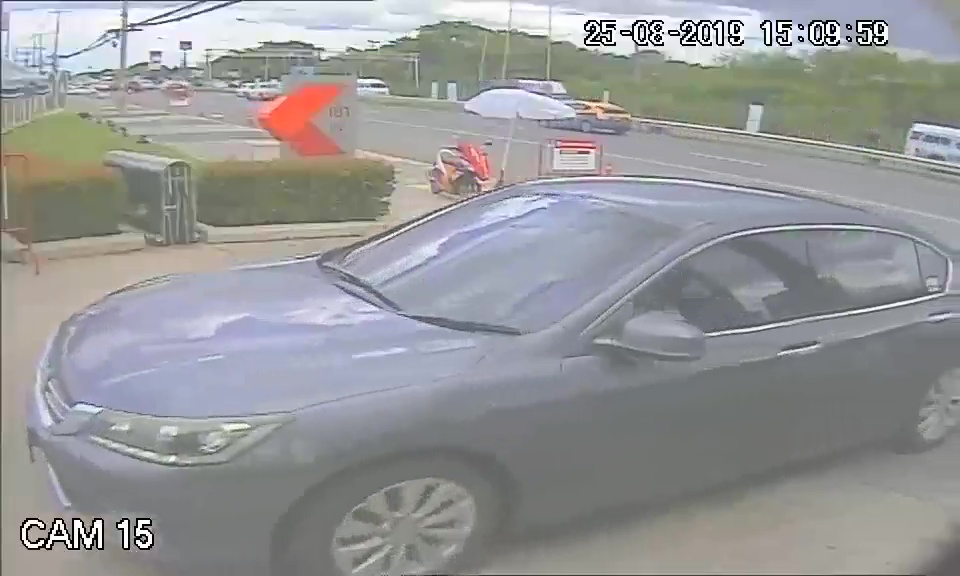sedan: (14, 165, 746, 565)
